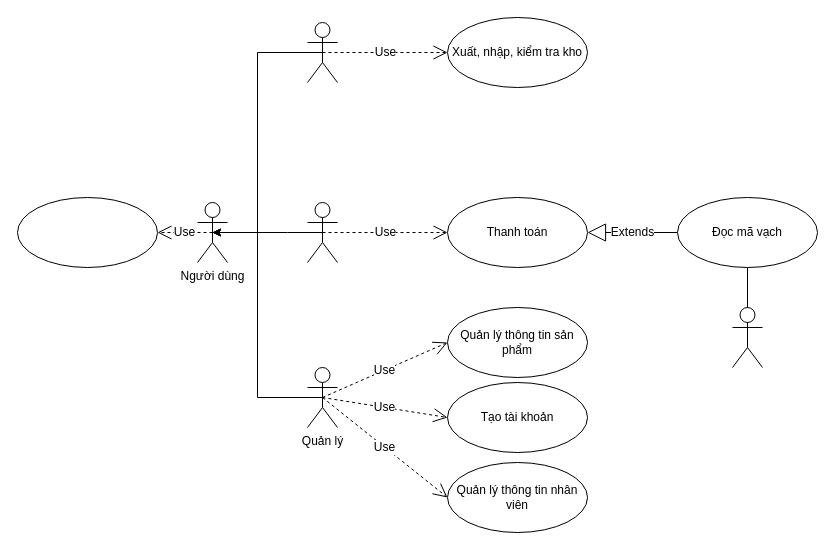
The diagram is 835 pixels wide and 550 high, and some of its shapes have lost their labels. The shapes that lost their labels are listed below. From the top down, each one's box as (x1, y1, x2, y2) in pixels, then its label:
(306, 22, 338, 82): Nhân viên kho
(16, 196, 158, 268): Đăng nhập
(306, 202, 338, 262): Nhân viên bán hàng
(732, 306, 762, 368): Thiết bị đọc mã vạch
